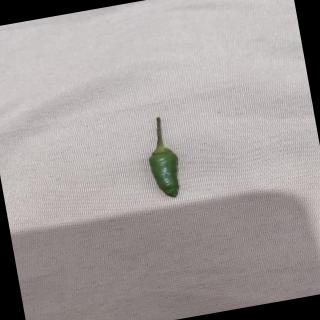Cabai Hijau: (138, 113, 190, 206)
